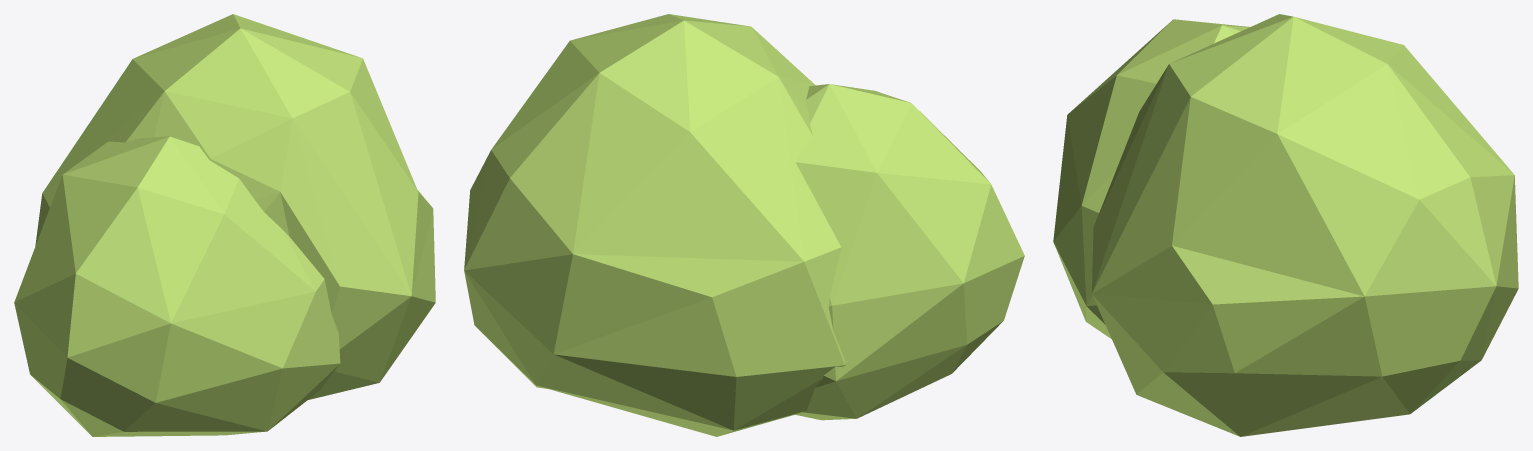
Rendered from Bush_c_m_02.fbx.
3 renders of one model, left to right at view 1: azimuth 30°, elevation 25°; view 2: azimuth 150°, elevation 25°; view 3: azimuth 270°, elevation 25°, orthographic. The views are drawn at different scales.
Parts seen in each view (by area): view 1: Bush_c_m_02; view 2: Bush_c_m_02; view 3: Bush_c_m_02.
Part boxes in pixels (x1=…): Bush_c_m_02: x1=14, y1=14, x2=435, y2=436; Bush_c_m_02: x1=464, y1=14, x2=1024, y2=436; Bush_c_m_02: x1=1053, y1=14, x2=1518, y2=436.
Bounding box in the file's own units: 168 × 140 × 151.
